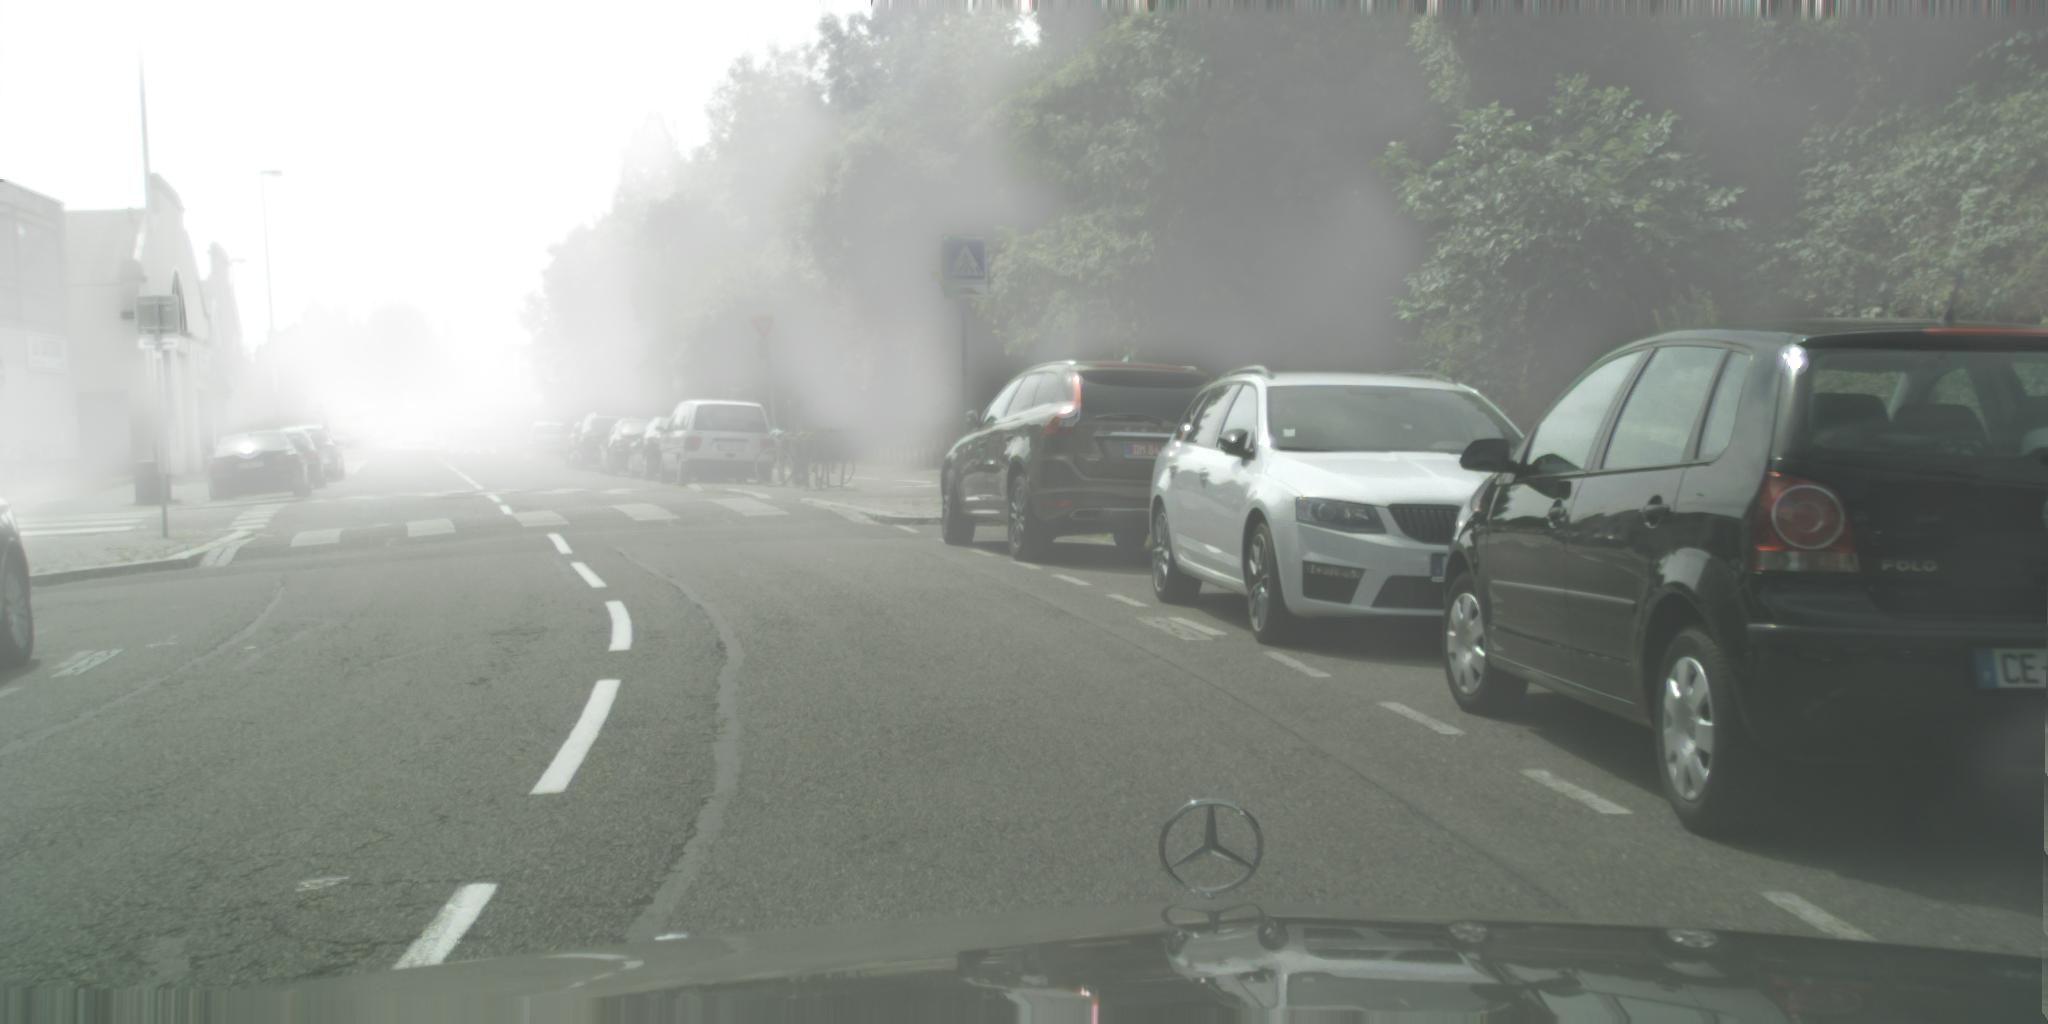bicycle: (754, 430, 856, 488), (1, 439, 50, 482)
car: (1443, 270, 2048, 839), (1149, 364, 1529, 647), (940, 355, 1216, 563), (656, 400, 776, 487), (206, 430, 313, 500), (1, 498, 37, 671), (628, 417, 712, 482), (274, 424, 346, 481), (575, 413, 636, 472), (502, 405, 581, 449), (273, 428, 327, 488), (600, 419, 654, 475), (522, 421, 573, 461), (447, 424, 499, 455), (566, 423, 586, 469), (370, 431, 400, 447), (347, 434, 371, 449), (439, 431, 462, 447)
